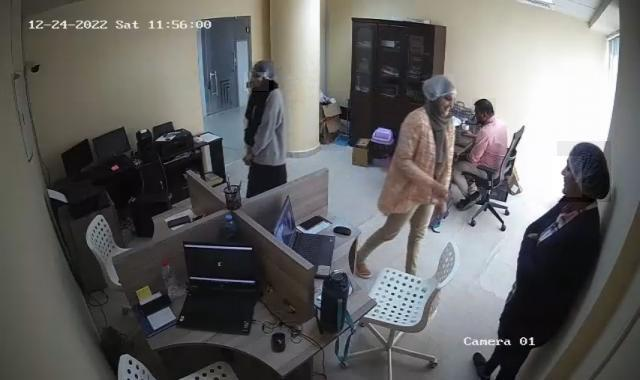gloves: (558, 141, 612, 202), (424, 74, 454, 122), (250, 61, 274, 92)
no_apron: (235, 147, 264, 179), (459, 125, 481, 143)
no_gloves: (472, 98, 496, 124)
no_hairnet: (553, 157, 583, 198), (430, 94, 455, 124), (245, 72, 270, 92), (469, 107, 495, 126)
